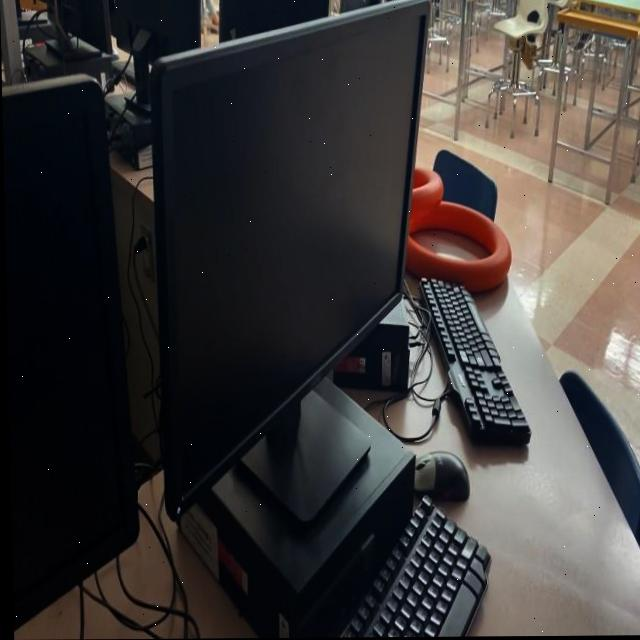note: (402, 201, 511, 297), (408, 163, 445, 222)
